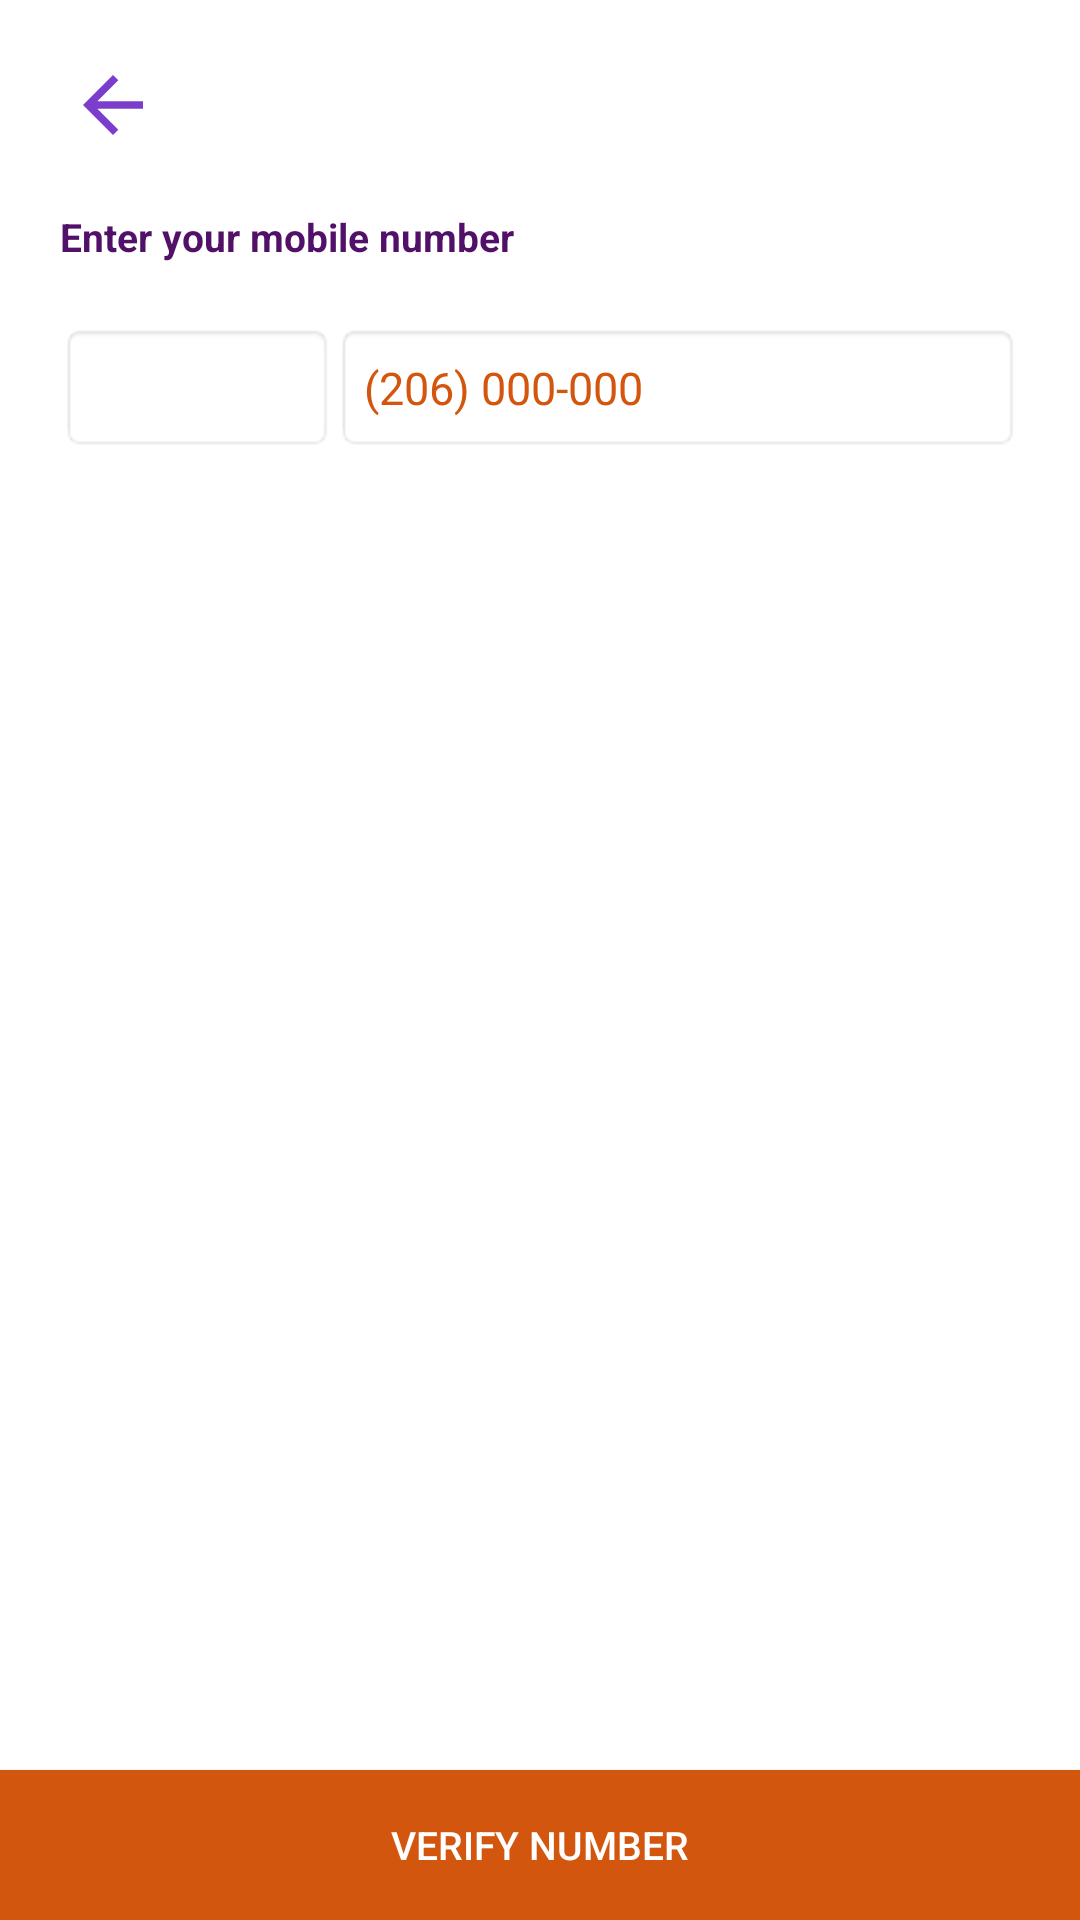

Where to tap for icons on this 1080px×1920px app screen, as (x=x, y=y):
back: (x=113, y=105)
